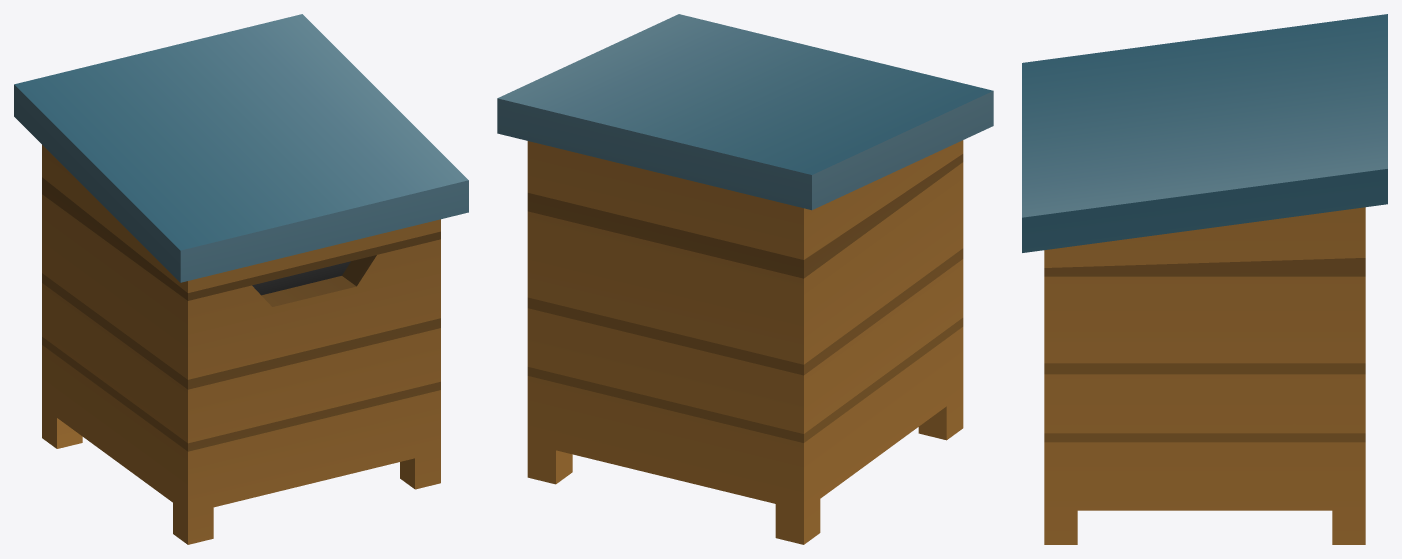
Rendered from Hive.fbx.
3 views of the same model, side by side, from view 1: azimuth 30°, elevation 25°; view 2: azimuth 150°, elevation 25°; view 3: azimuth 270°, elevation 25° (orthographic). The views are drawn at different scales.
Parts seen in each view (by area): view 1: Hive_LOD0; view 2: Hive_LOD0; view 3: Hive_LOD0.
Boxes of the visible parts, x1=… form: Hive_LOD0: x1=14, y1=14, x2=468, y2=544; Hive_LOD0: x1=497, y1=14, x2=993, y2=544; Hive_LOD0: x1=1022, y1=14, x2=1387, y2=544.
Size of what is drawn, in the model's own units: 90.41 by 105 by 90.35.
